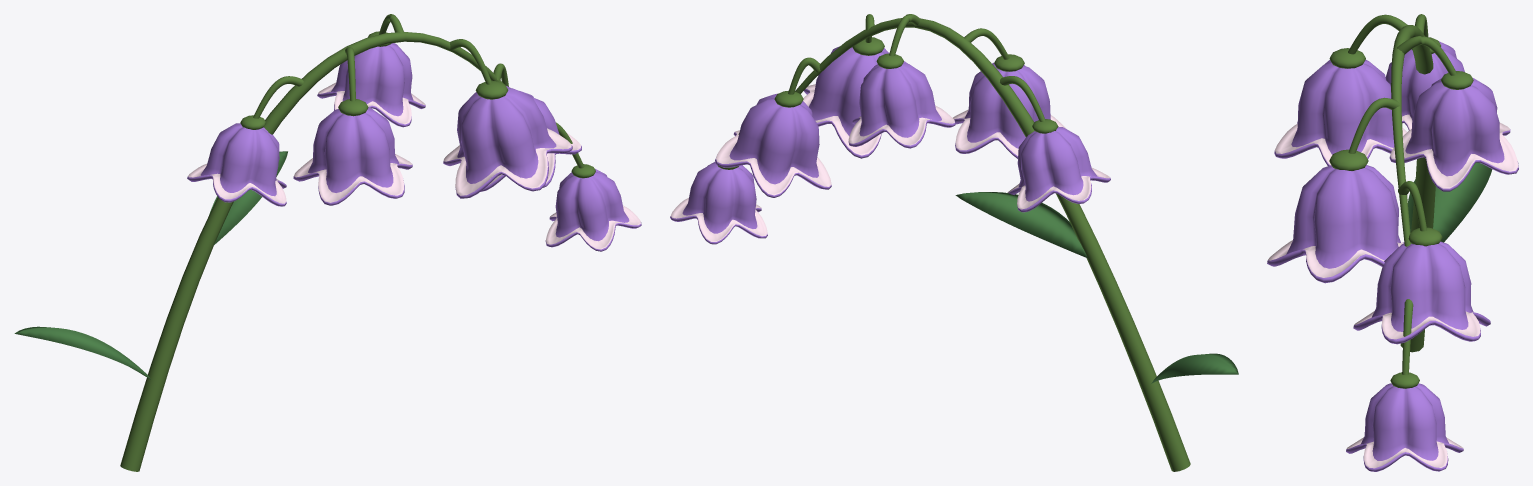
File: crossing_arching_bellflowers.glb
3 renders of one model, left to right at view 1: azimuth 30°, elevation 25°; view 2: azimuth 150°, elevation 25°; view 3: azimuth 270°, elevation 25°, orthographic. The views are drawn at different scales.
Visible parts, largest first — view 1: SM_Crossing_ArchingBellflowers; view 2: SM_Crossing_ArchingBellflowers; view 3: SM_Crossing_ArchingBellflowers.
Part boxes in pixels (x1,y1,x2,y2): SM_Crossing_ArchingBellflowers: [14, 14, 641, 471]; SM_Crossing_ArchingBellflowers: [670, 14, 1238, 471]; SM_Crossing_ArchingBellflowers: [1267, 14, 1518, 471].
Bounding box in the file's own units: 1.27 × 0.812 × 0.396.
